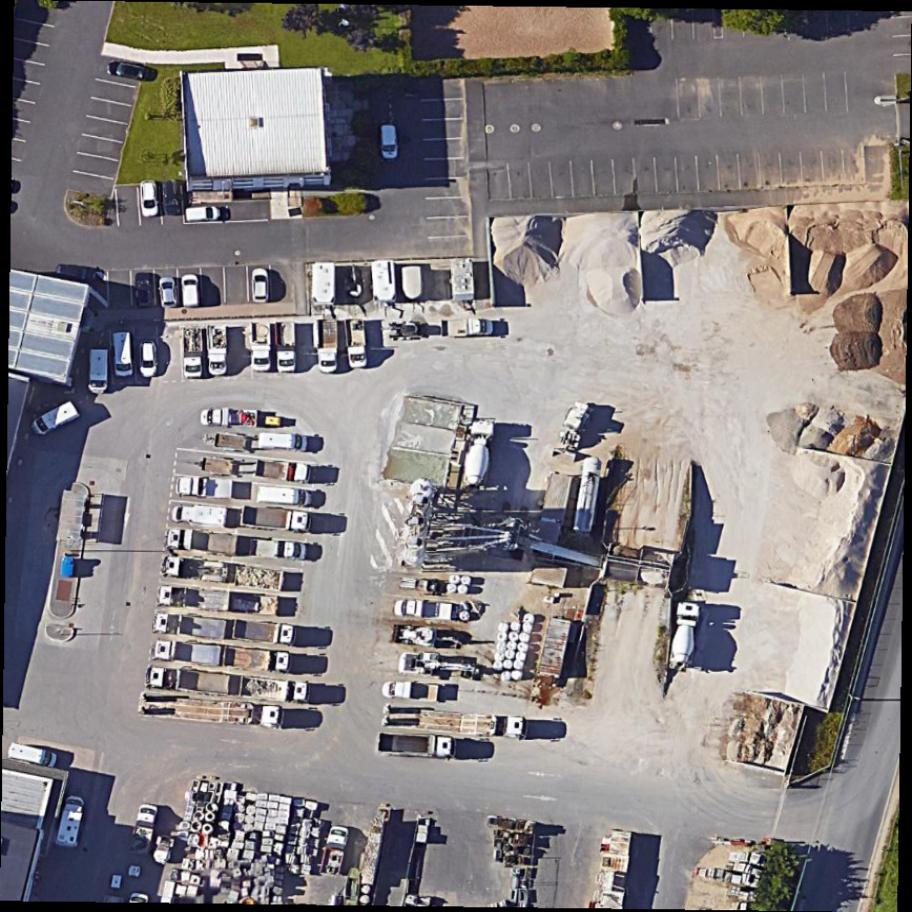large-vehicle: (378, 703, 532, 743), (136, 692, 289, 730), (373, 729, 462, 766), (220, 642, 295, 679), (238, 505, 314, 537), (32, 397, 82, 442), (388, 596, 460, 627), (237, 675, 313, 704), (230, 616, 302, 646), (316, 822, 352, 882), (149, 668, 230, 694), (4, 739, 62, 774), (128, 798, 162, 857), (156, 612, 229, 639), (54, 793, 90, 847), (159, 585, 231, 611), (378, 679, 445, 706), (163, 556, 231, 581), (252, 456, 314, 483), (438, 313, 500, 340), (312, 318, 341, 374), (151, 641, 221, 664), (169, 531, 236, 554), (245, 539, 308, 563), (343, 314, 370, 370), (255, 484, 315, 509), (253, 432, 312, 457), (168, 506, 231, 529), (176, 476, 233, 501), (273, 319, 298, 373), (247, 319, 272, 371), (202, 325, 228, 375), (181, 327, 206, 379), (86, 345, 112, 393), (201, 407, 259, 427), (182, 203, 228, 224), (113, 331, 133, 377), (379, 123, 401, 162)
small-vehicle: (104, 53, 153, 87), (138, 178, 161, 220), (138, 339, 161, 380), (180, 272, 203, 307), (251, 266, 272, 304), (160, 274, 181, 310)
